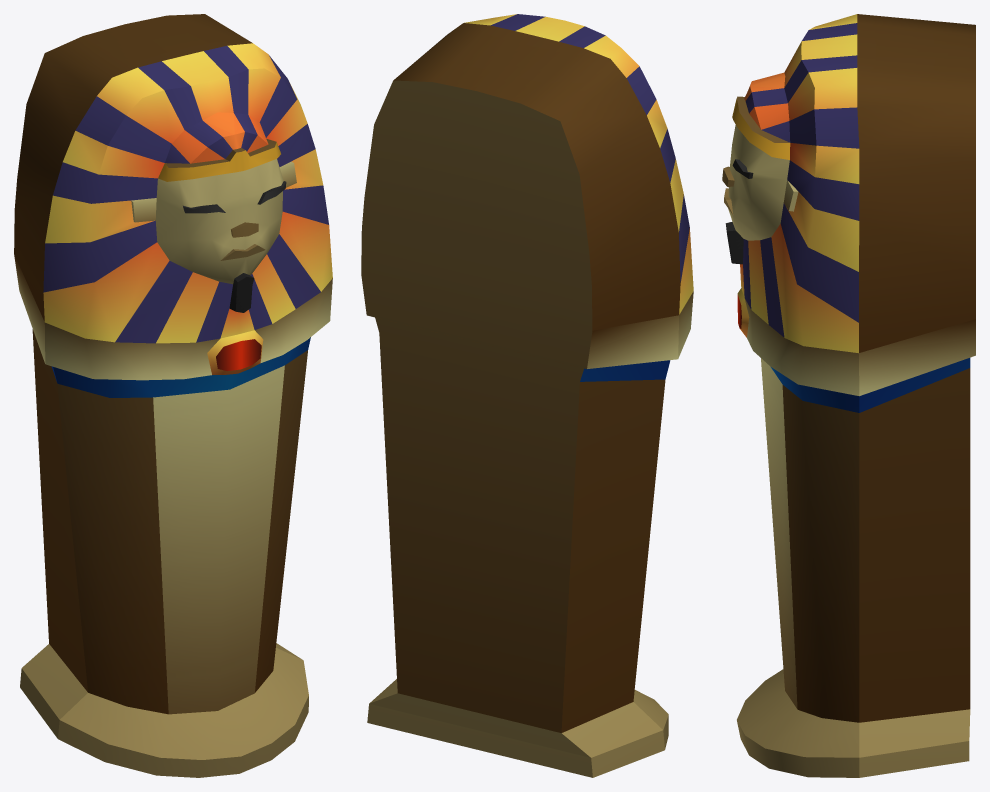
The model's file is egypt_env_sarcophagus.gltf.
3 views of the same model, side by side, from view 1: azimuth 30°, elevation 25°; view 2: azimuth 150°, elevation 25°; view 3: azimuth 270°, elevation 25° (orthographic). The views are drawn at different scales.
Visible parts, largest first — view 1: egypt_env_sarcophagus_glb; view 2: egypt_env_sarcophagus_glb; view 3: egypt_env_sarcophagus_glb.
Part boxes in pixels (x1,y1,x2,y2): egypt_env_sarcophagus_glb: (14,14,332,777); egypt_env_sarcophagus_glb: (361,14,693,777); egypt_env_sarcophagus_glb: (722,14,975,777).
Size of what is drawn, in the model's own units: 2.12 by 4.95 by 1.64.
1 material, 1 textured.
